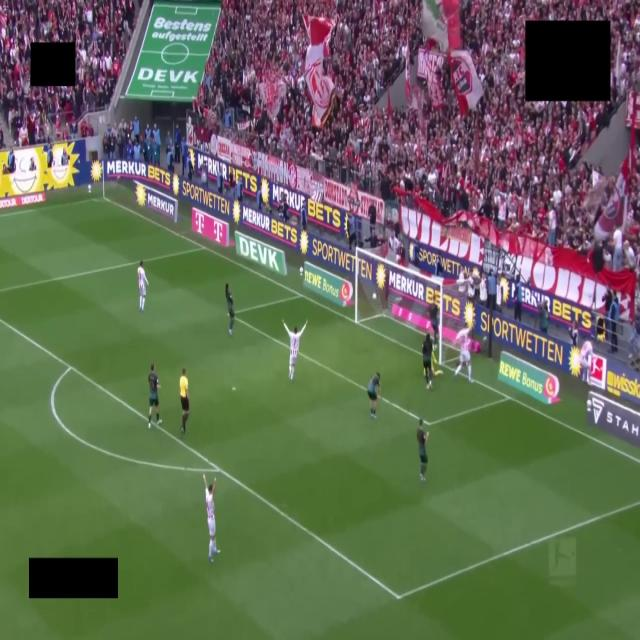ball: (373, 293, 376, 299)
player: (283, 320, 307, 380), (203, 475, 219, 561), (455, 328, 472, 382), (148, 364, 161, 428), (417, 419, 428, 481), (422, 332, 434, 388), (367, 373, 380, 418), (580, 341, 593, 382), (138, 261, 148, 311), (225, 284, 234, 335), (429, 304, 439, 349), (423, 342, 426, 376)
referee: (180, 368, 189, 433)
